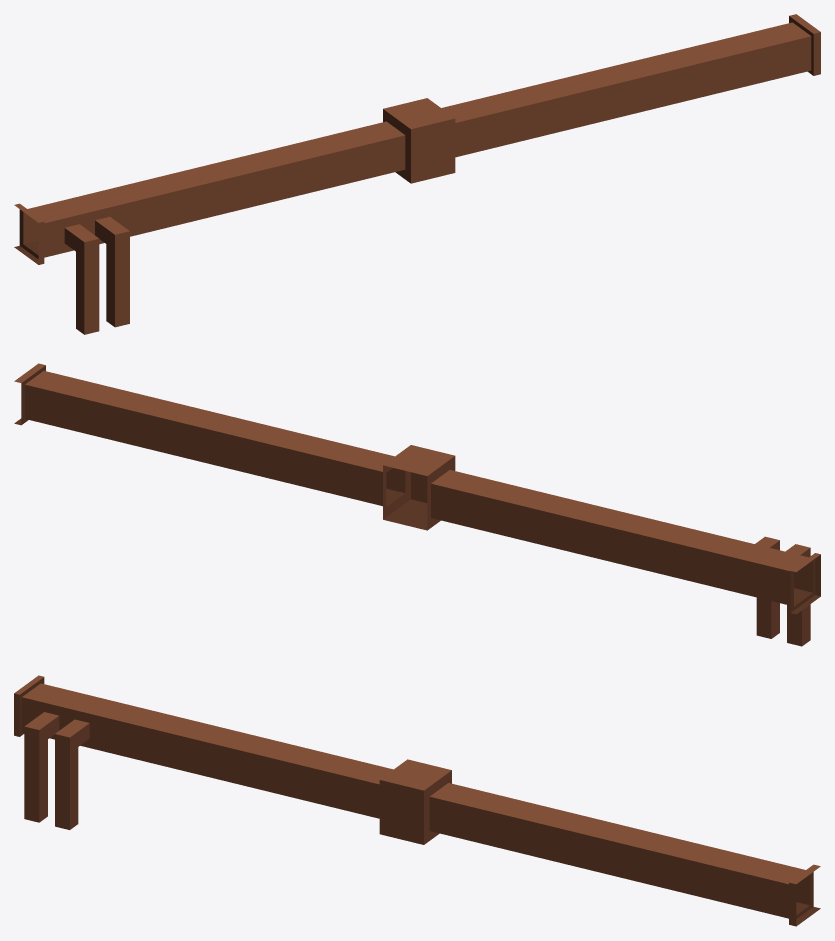
File: AI_Env_Sewer_Pipeline_Straight.fbx
3 renders of one model, top to bottom at view 1: azimuth 30°, elevation 25°; view 2: azimuth 150°, elevation 25°; view 3: azimuth 330°, elevation 25°, orthographic.
Visible parts, largest first — view 1: AI_Env_Sewer_Pipeline_Straight; view 2: AI_Env_Sewer_Pipeline_Straight; view 3: AI_Env_Sewer_Pipeline_Straight.
Boxes of the visible parts, x1=… form: AI_Env_Sewer_Pipeline_Straight: x1=14, y1=14, x2=820, y2=334; AI_Env_Sewer_Pipeline_Straight: x1=14, y1=363, x2=820, y2=646; AI_Env_Sewer_Pipeline_Straight: x1=14, y1=675, x2=820, y2=926.
Size of the model in its own units: 5 by 0.6835 by 0.4689.
